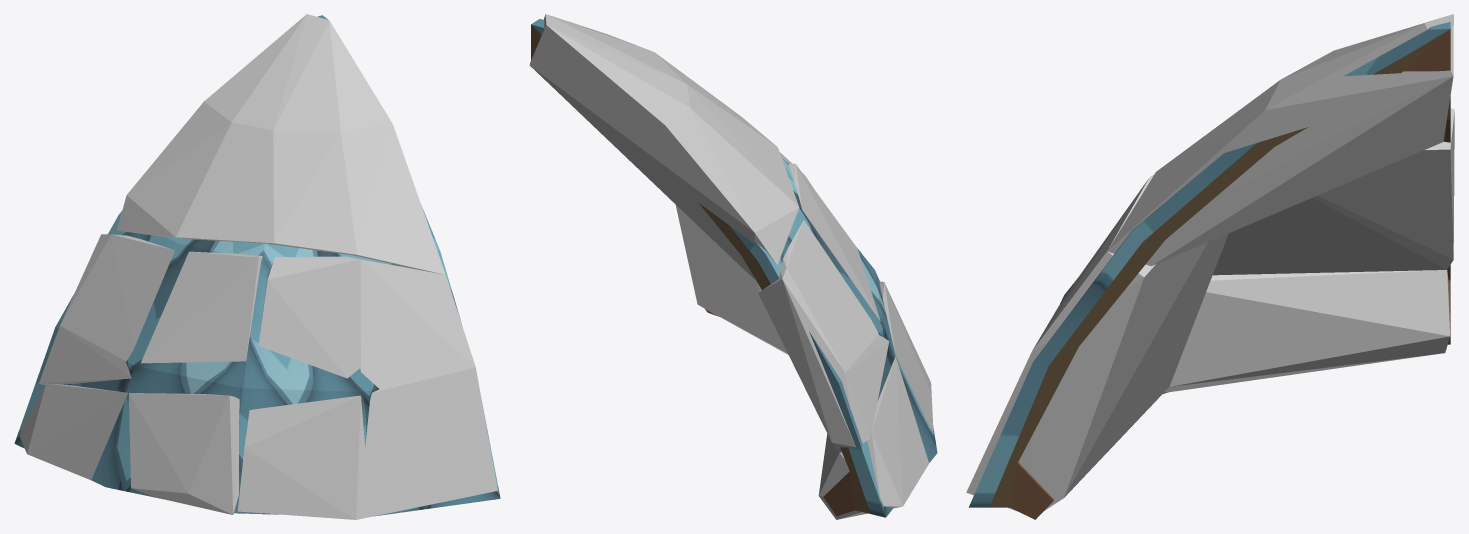
The model's file is SM_Bld_Roof_Corner_Round_Small_01.fbx.
The picture shows the model from 3 angles, left to right: view 1: azimuth 30°, elevation 25°; view 2: azimuth 150°, elevation 25°; view 3: azimuth 270°, elevation 25°; orthographic projection. The views are drawn at different scales.
Visible parts, largest first — view 1: SM_Bld_Roof_Corner_Round_Small_01_ConvexHulls, SM_Bld_Roof_Corner_Round_Small_01; view 2: SM_Bld_Roof_Corner_Round_Small_01_ConvexHulls, SM_Bld_Roof_Corner_Round_Small_01; view 3: SM_Bld_Roof_Corner_Round_Small_01_ConvexHulls, SM_Bld_Roof_Corner_Round_Small_01.
Part boxes in pixels (x1,y1,x2,y2): SM_Bld_Roof_Corner_Round_Small_01_ConvexHulls: [19, 14, 497, 519]; SM_Bld_Roof_Corner_Round_Small_01: [14, 15, 500, 516]; SM_Bld_Roof_Corner_Round_Small_01_ConvexHulls: [529, 14, 933, 519]; SM_Bld_Roof_Corner_Round_Small_01: [531, 19, 937, 517]; SM_Bld_Roof_Corner_Round_Small_01_ConvexHulls: [966, 14, 1454, 511]; SM_Bld_Roof_Corner_Round_Small_01: [968, 22, 1450, 519].
Size of the model in its own units: 138 by 139 by 158.
4 materials, 3 textured.
